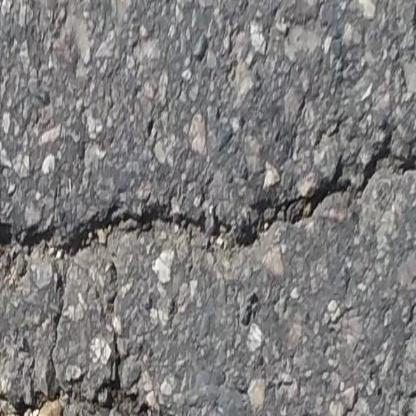Cracks: (0, 144, 416, 321), (0, 372, 169, 416)
